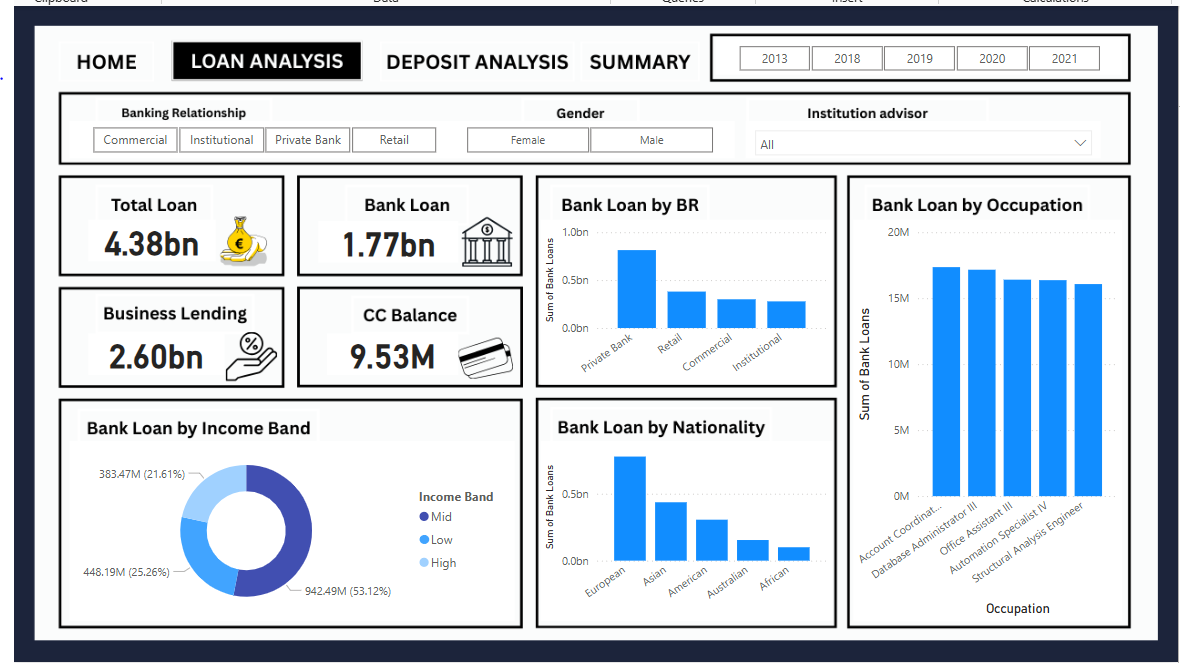

The page's visual inventory and layout, read from the dashboard file:
{"tool":"powerbi","page":{"name":"Loan Analysis","canvas":[1280,720],"ordinal":1},"visuals":[{"type":"actionButton","box":[52.1,35.7,100.2,49.4],"z":0},{"type":"actionButton","box":[391.1,35.7,211.3,39.8],"z":1000},{"type":"actionButton","box":[621.6,39.8,129,39.8],"z":2000},{"type":"slicer","fields":{"Values":["Banking_Clients.year of joining"]},"box":[772.6,37,446,38.4],"z":3000},{"type":"card","fields":{"Values":["Banking_Clients.Total loan"]},"box":[83.7,234.6,140,45.3],"z":4000},{"type":"card","fields":{"Values":["Sum(Banking_Clients.Bank Loans)"]},"box":[336.2,236,153.7,45.3],"z":5000},{"type":"card","fields":{"Values":["Sum(Banking_Clients.Business Lending)"]},"box":[83.7,359.5,149.6,45.3],"z":6000},{"type":"card","fields":{"Values":["Sum(Banking_Clients.Credit Card Balance)"]},"box":[345.8,359.5,144.1,45.3],"z":7000},{"type":"donutChart","fields":{"Y":["Sum(Banking_Clients.Bank Loans)"],"Category":["Banking_Clients.Income Band"]},"box":[63.1,477.5,488.5,197.6],"z":8000},{"type":"columnChart","fields":{"Y":["Sum(Banking_Clients.Bank Loans)"],"Category":["Banking_Clients.BRId"]},"box":[580.4,234.6,319.7,181.1],"z":9000},{"type":"columnChart","fields":{"Y":["Sum(Banking_Clients.Bank Loans)"],"Category":["Banking_Clients.Nationality"]},"box":[580.4,477.5,319.7,197.6],"z":10000},{"type":"columnChart","fields":{"Y":["Sum(Banking_Clients.Bank Loans)"],"Category":["Banking_Clients.Occupation"]},"box":[923.5,234.6,295,440.5],"z":11000},{"type":"slicer","fields":{"Values":["Banking_Clients.BRId"]},"box":[63.1,126.2,426.8,41.2],"z":12000},{"type":"slicer","fields":{"Values":["Banking_Clients.GenderId"]},"box":[473.4,126.2,319.7,41.2],"z":13000},{"type":"slicer","fields":{"Values":["Banking_Clients.IAId"]},"box":[805.5,126.2,389.7,41.2],"z":14000}]}

Visuals, with their boxes on the page's 1280x720 design canvas (x1, y1, x2, y2). These are canvas units, not pixel positions in the 1180x663 screenshot, which may show the page scaled, cropped or inside an application window:
actionButton: bbox=(52, 36, 152, 85)
actionButton: bbox=(391, 36, 602, 76)
actionButton: bbox=(622, 40, 751, 80)
slicer - Banking_Clients.year of joining: bbox=(773, 37, 1219, 75)
card - Banking_Clients.Total loan: bbox=(84, 235, 224, 280)
card - Sum(Banking_Clients.Bank Loans): bbox=(336, 236, 490, 281)
card - Sum(Banking_Clients.Business Lending): bbox=(84, 360, 233, 405)
card - Sum(Banking_Clients.Credit Card Balance): bbox=(346, 360, 490, 405)
donutChart - Sum(Banking_Clients.Bank Loans) x Banking_Clients.Income Band: bbox=(63, 478, 552, 675)
columnChart - Sum(Banking_Clients.Bank Loans) x Banking_Clients.BRId: bbox=(580, 235, 900, 416)
columnChart - Sum(Banking_Clients.Bank Loans) x Banking_Clients.Nationality: bbox=(580, 478, 900, 675)
columnChart - Sum(Banking_Clients.Bank Loans) x Banking_Clients.Occupation: bbox=(924, 235, 1218, 675)
slicer - Banking_Clients.BRId: bbox=(63, 126, 490, 167)
slicer - Banking_Clients.GenderId: bbox=(473, 126, 793, 167)
slicer - Banking_Clients.IAId: bbox=(806, 126, 1195, 167)
